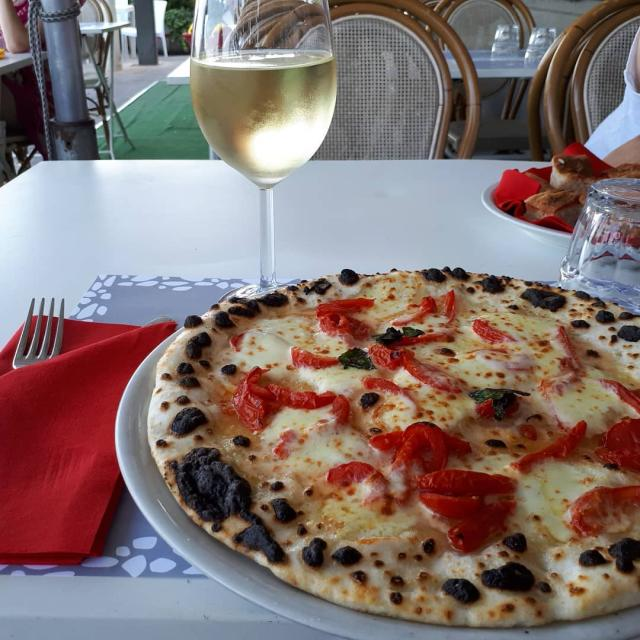basil: (471, 388, 532, 419), (339, 349, 373, 371), (376, 330, 401, 342), (402, 325, 423, 338)
pizza: (149, 268, 640, 630)
tomatoes: (274, 396, 352, 456), (511, 420, 588, 473), (568, 484, 640, 534), (450, 502, 518, 550), (411, 472, 517, 498), (370, 431, 472, 458), (403, 352, 467, 395), (593, 421, 640, 475), (394, 426, 446, 474), (236, 365, 273, 429), (326, 464, 386, 503), (363, 376, 418, 413), (419, 492, 487, 520), (318, 313, 374, 347), (382, 328, 460, 349), (598, 378, 640, 416), (273, 385, 336, 410), (391, 295, 437, 328), (471, 318, 519, 346), (367, 344, 416, 369), (551, 326, 581, 366), (292, 346, 338, 371), (316, 297, 378, 315), (443, 291, 456, 325)
